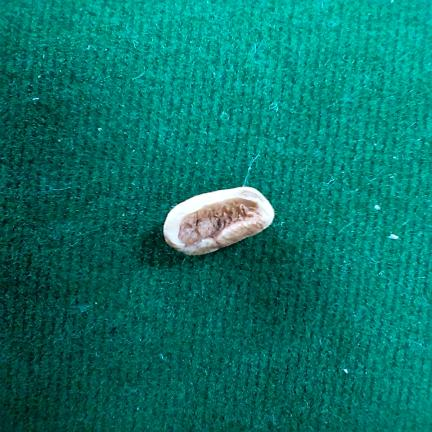shell: (163, 187, 274, 255)
